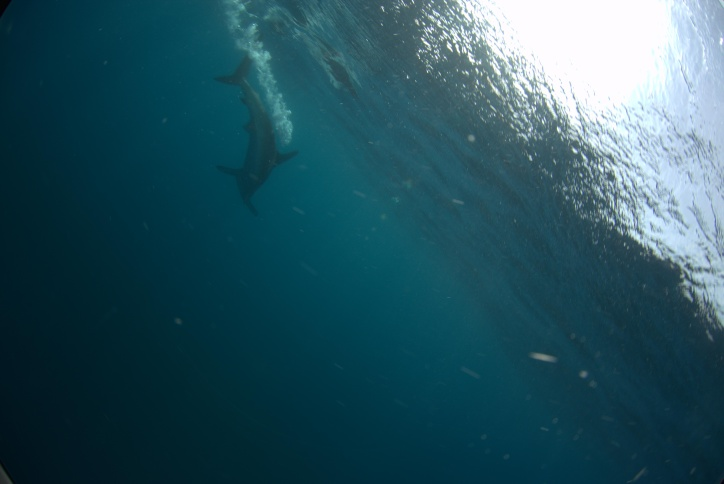Hammer: (188, 53, 327, 222)
